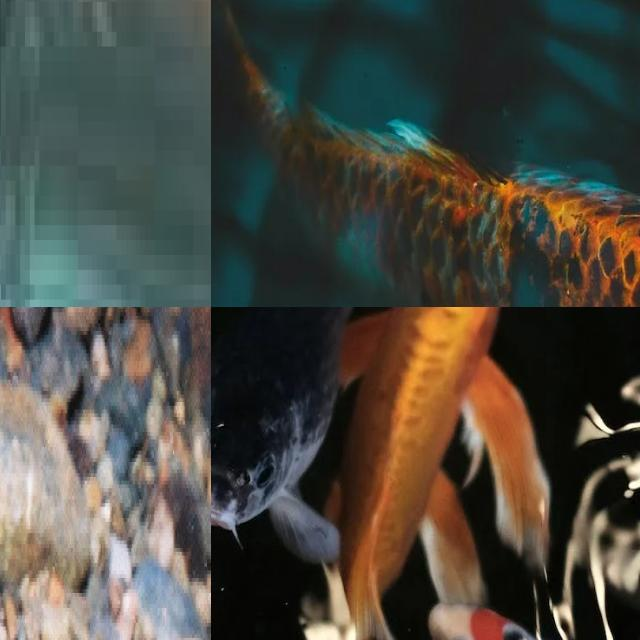fish: (357, 0, 640, 307), (211, 307, 600, 495), (0, 307, 211, 640), (0, 0, 211, 307)
